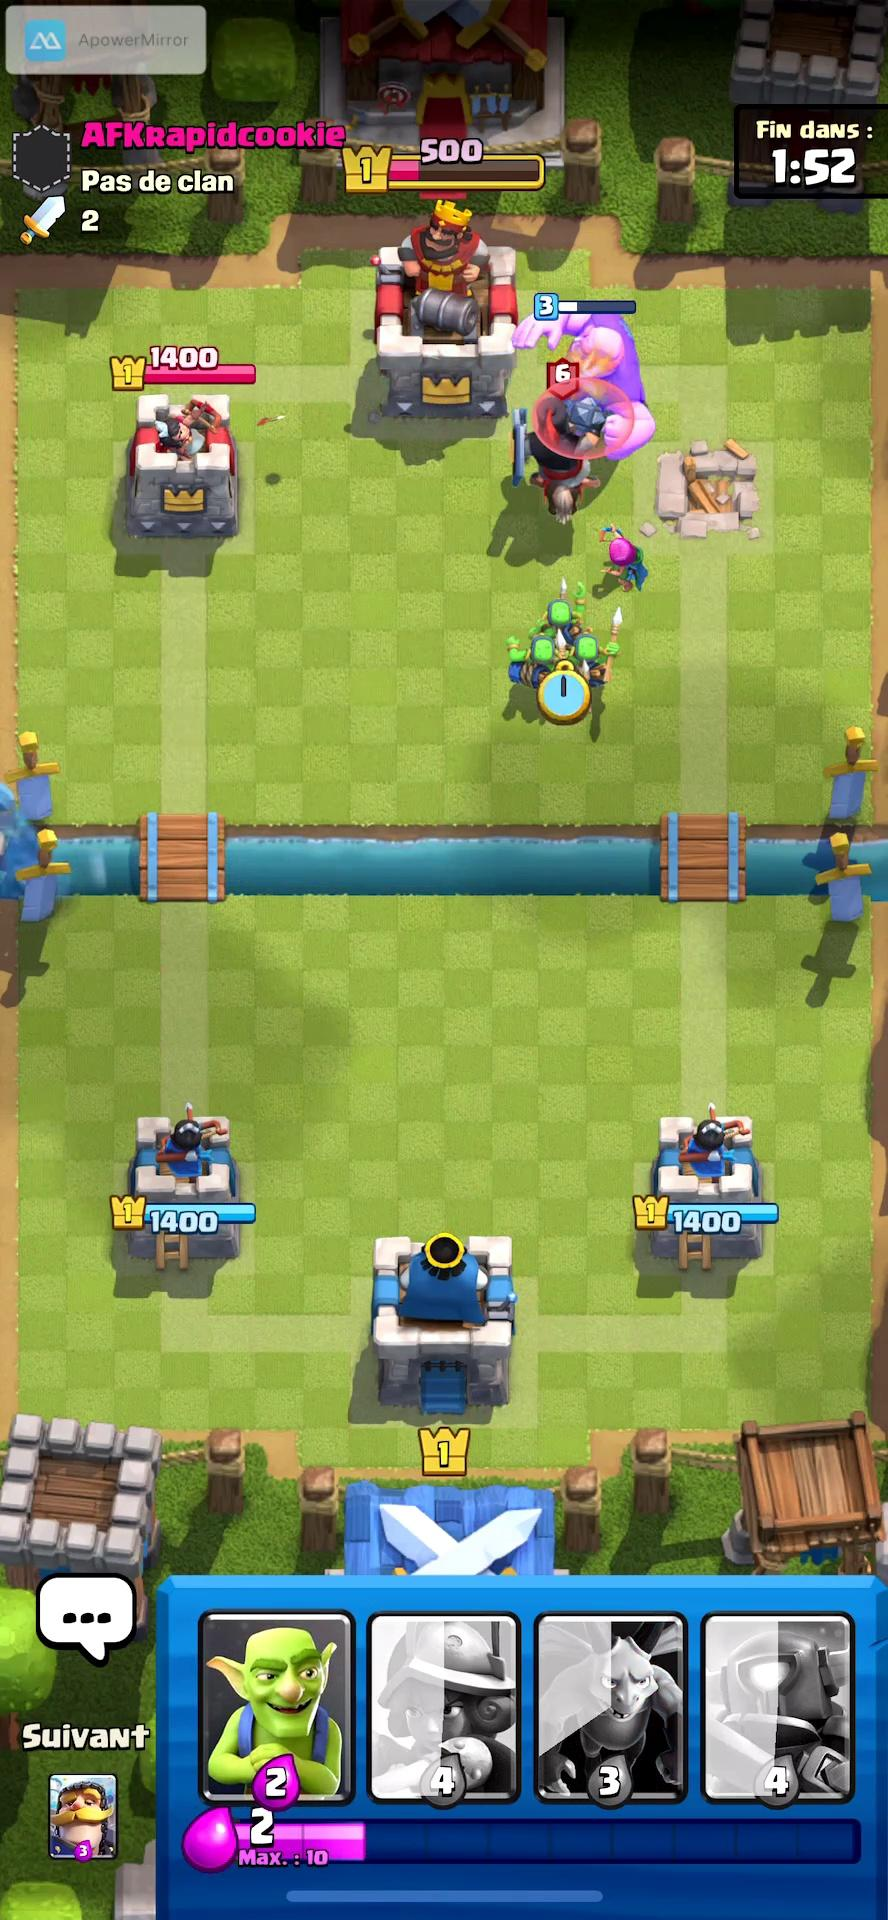archere: (599, 523, 648, 596)
geant: (524, 304, 668, 456), (540, 311, 655, 464)
gobelin_lances: (565, 634, 636, 704), (505, 631, 566, 702), (533, 583, 594, 649)
